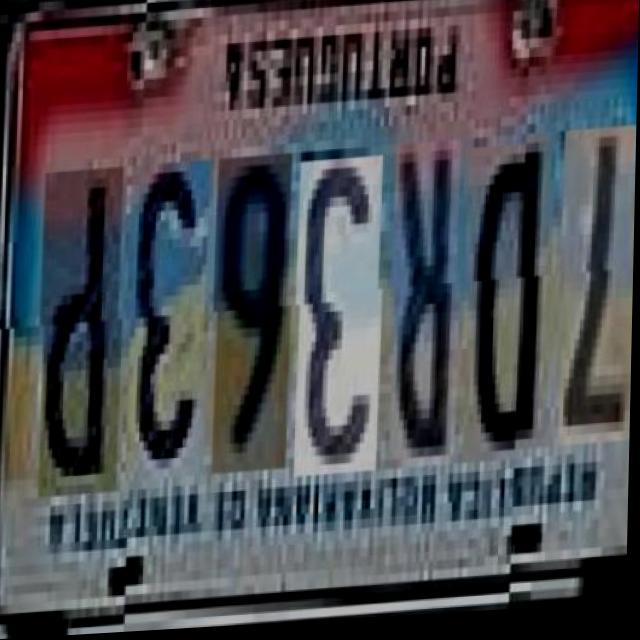3: (290, 159, 383, 479), (122, 160, 210, 481)
6: (210, 156, 292, 476)
7: (556, 143, 637, 464)
d: (459, 147, 551, 468)
p: (36, 156, 124, 486)
r: (386, 144, 460, 473)
